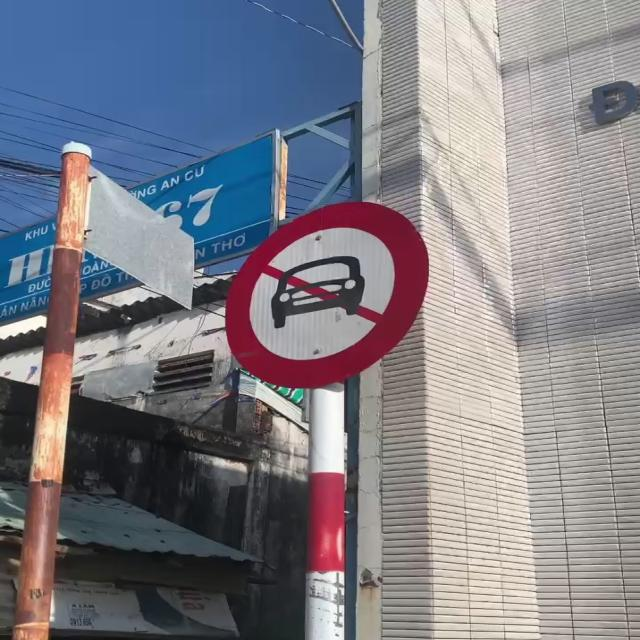Cam_O_To: (222, 195, 430, 391)
